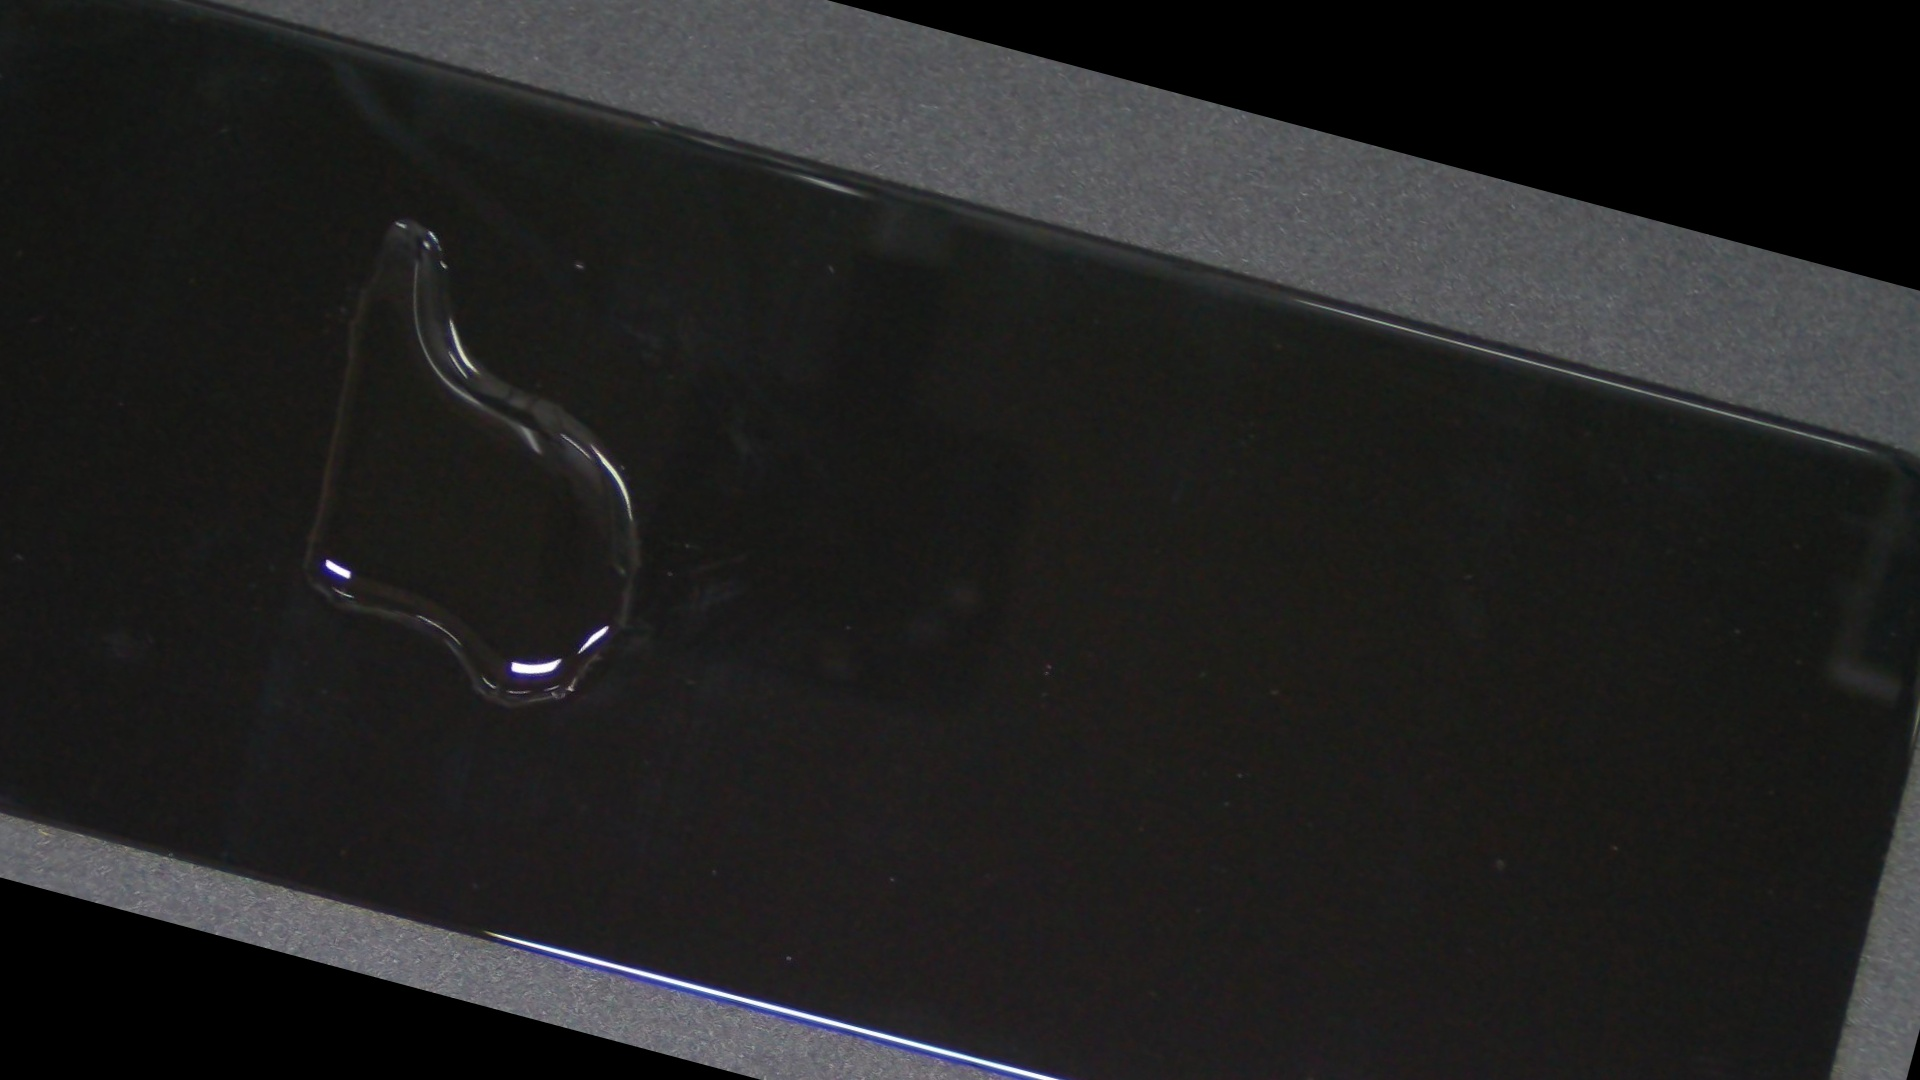oil: (99, 0, 715, 444)
